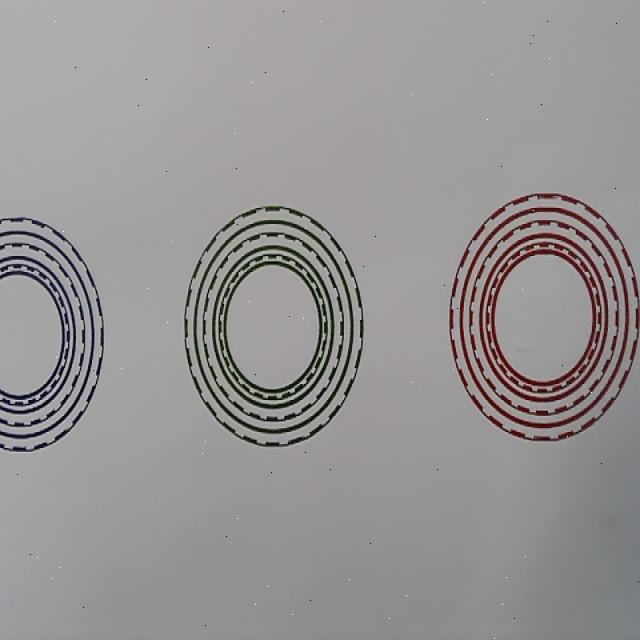g: (184, 204, 365, 448)
red-green-blue: (448, 192, 640, 442)
